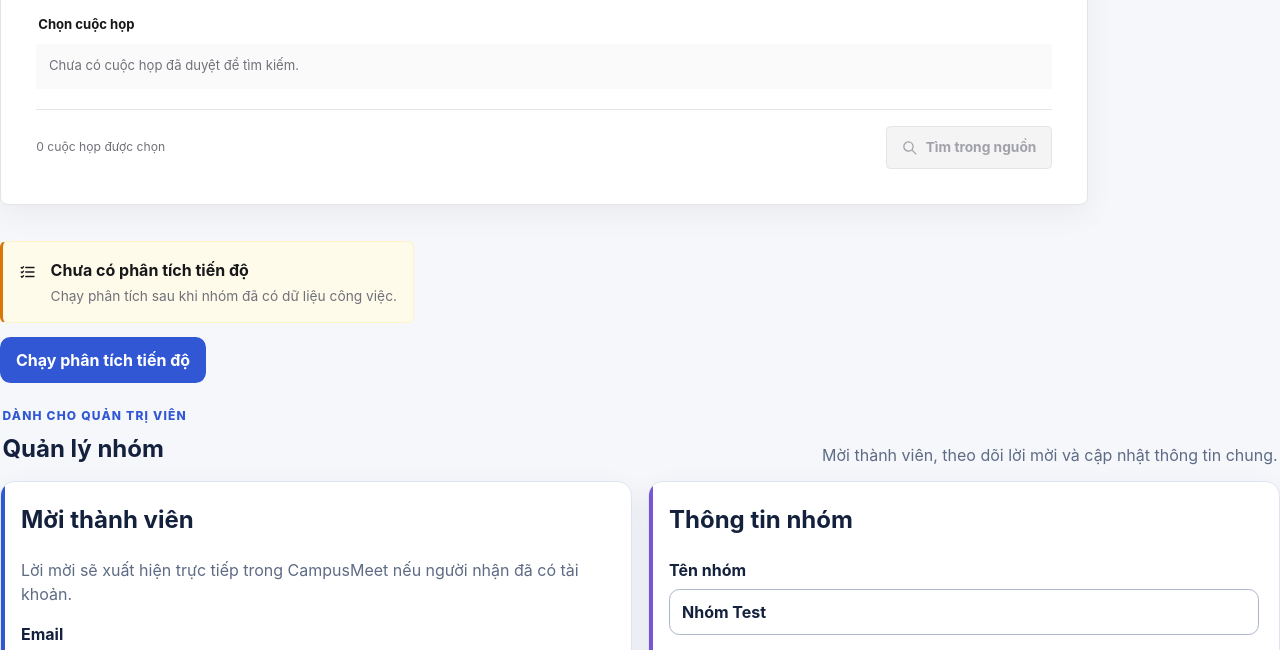
hiển thị kết quả Progress Analysis cho Group Admin
The width and height of the screenshot is (1280, 650).
(page scrolled)
Click the button "Chạy phân tích tiến độ": [103, 360] box [0,337,206,383]
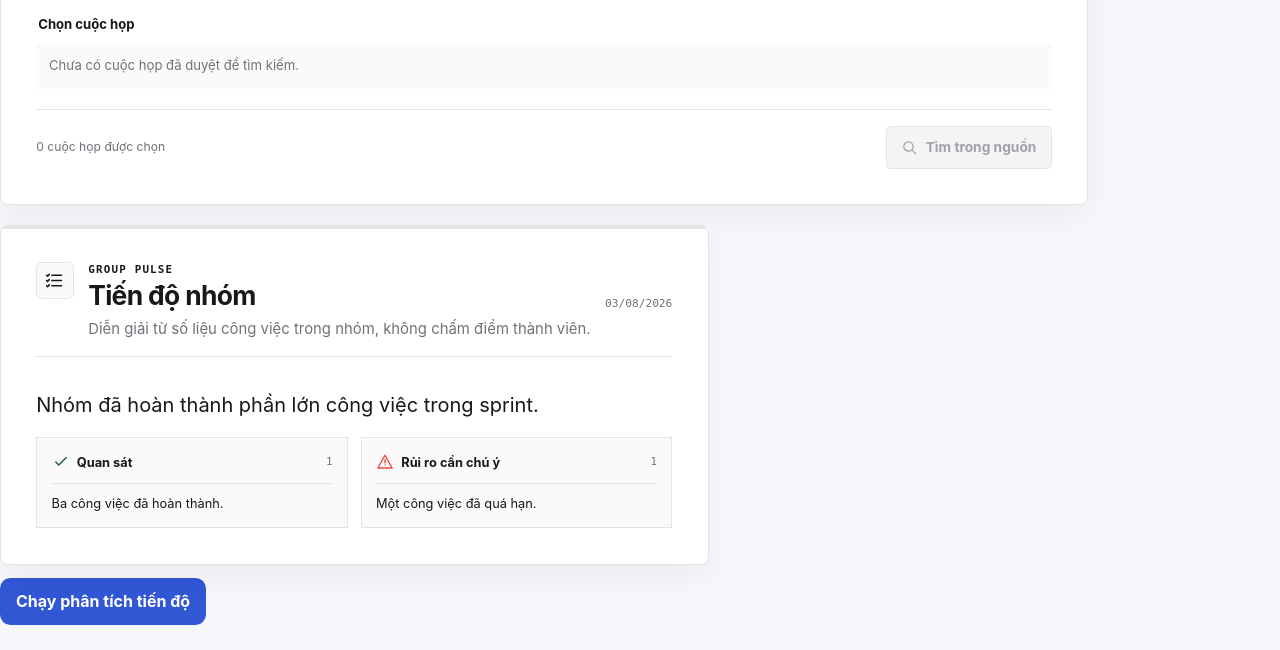
Result: the text "Nhóm đã hoàn thành phần lớn công việc trong sprint." is shown at [36,393,539,417]
Result: the list item "Một công việc đã quá hạn." is shown at [376,483,657,513]
